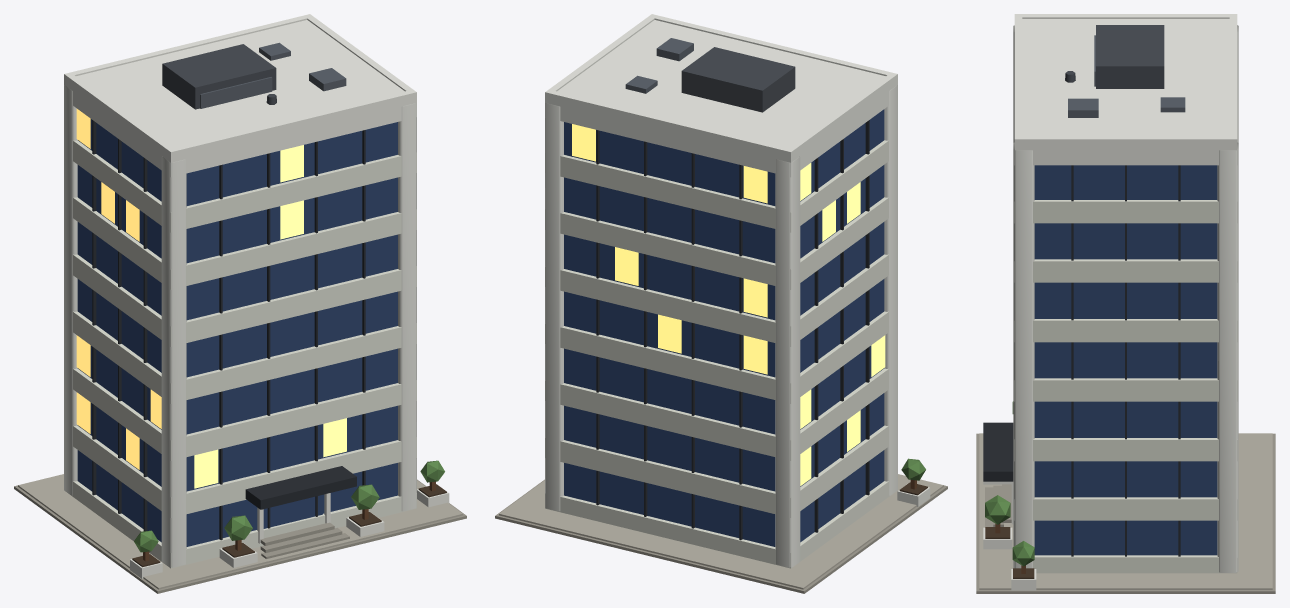
File: sageworks-offices.glb
The picture shows the model from 3 angles, left to right: view 1: azimuth 30°, elevation 25°; view 2: azimuth 150°, elevation 25°; view 3: azimuth 270°, elevation 25°; orthographic projection. The views are drawn at different scales.
Visible parts, largest first — view 1: Merged_sageworks-ribbon-glass-surface, Merged_sageworks-stone-light, Merged_sageworks-stone, Merged_sageworks-mullion-surface, Merged_sageworks-plaza, Merged_sageworks-lit-window-surface, Merged_sageworks-roof-plant, Merged_sageworks-plaza-curb (×2), Merged_sageworks-mullion, Merged_sageworks-roof-plant-light, Merged_sageworks-tree-foliage, Merged_sageworks-planter-soil; view 2: Merged_sageworks-ribbon-glass-surface, Merged_sageworks-stone-light, Merged_sageworks-stone, Merged_sageworks-plaza, Merged_sageworks-lit-window-surface, Merged_sageworks-mullion-surface, Merged_sageworks-roof-plant, Merged_sageworks-plaza-curb, Merged_sageworks-roof-plant-light; view 3: Merged_sageworks-stone-light, Merged_sageworks-ribbon-glass-surface, Merged_sageworks-stone, Merged_sageworks-plaza, Merged_sageworks-roof-plant, Merged_sageworks-plaza-curb (×2), Merged_sageworks-mullion-surface, Merged_sageworks-mullion, Merged_sageworks-roof-plant-light, Merged_sageworks-tree-foliage, Merged_sageworks-planter-soil.
Boxes of the visible parts, left/top/right/bottom form: Merged_sageworks-ribbon-glass-surface: left=77, top=119, right=397, bottom=546; Merged_sageworks-stone-light: left=64, top=14, right=449, bottom=578; Merged_sageworks-stone: left=72, top=140, right=416, bottom=568; Merged_sageworks-mullion-surface: left=92, top=120, right=365, bottom=540; Merged_sageworks-plaza: left=18, top=474, right=462, bottom=589; Merged_sageworks-lit-window-surface: left=76, top=108, right=346, bottom=488; Merged_sageworks-roof-plant: left=162, top=44, right=276, bottom=109; Merged_sageworks-plaza-curb (×2): left=14, top=479, right=466, bottom=593; Merged_sageworks-mullion: left=245, top=466, right=356, bottom=509; Merged_sageworks-roof-plant-light: left=200, top=42, right=346, bottom=108; Merged_sageworks-tree-foliage: left=134, top=460, right=444, bottom=552; Merged_sageworks-planter-soil: left=132, top=484, right=446, bottom=567; Merged_sageworks-ribbon-glass-surface: left=564, top=109, right=884, bottom=546; Merged_sageworks-stone-light: left=545, top=14, right=930, bottom=567; Merged_sageworks-stone: left=545, top=140, right=889, bottom=568; Merged_sageworks-plaza: left=499, top=474, right=943, bottom=589; Merged_sageworks-lit-window-surface: left=572, top=124, right=885, bottom=485; Merged_sageworks-mullion-surface: left=596, top=120, right=869, bottom=540; Merged_sageworks-roof-plant: left=681, top=47, right=795, bottom=112; Merged_sageworks-plaza-curb: left=495, top=479, right=947, bottom=593; Merged_sageworks-roof-plant-light: left=625, top=38, right=693, bottom=93; Merged_sageworks-stone-light: left=983, top=14, right=1238, bottom=590; Merged_sageworks-ribbon-glass-surface: left=1034, top=165, right=1217, bottom=555; Merged_sageworks-stone: left=1014, top=200, right=1237, bottom=573; Merged_sageworks-plaza: left=979, top=433, right=1272, bottom=589; Merged_sageworks-roof-plant: left=1065, top=25, right=1164, bottom=88; Merged_sageworks-plaza-curb (×2): left=976, top=433, right=1275, bottom=593; Merged_sageworks-mullion-surface: left=1071, top=165, right=1180, bottom=556; Merged_sageworks-mullion: left=983, top=422, right=1013, bottom=481; Merged_sageworks-roof-plant-light: left=1068, top=35, right=1185, bottom=117; Merged_sageworks-tree-foliage: left=985, top=401, right=1034, bottom=566; Merged_sageworks-planter-soil: left=985, top=527, right=1034, bottom=578.
Size of what is drawn, in the model's own units: 8.78 by 12.07 by 7.06.
